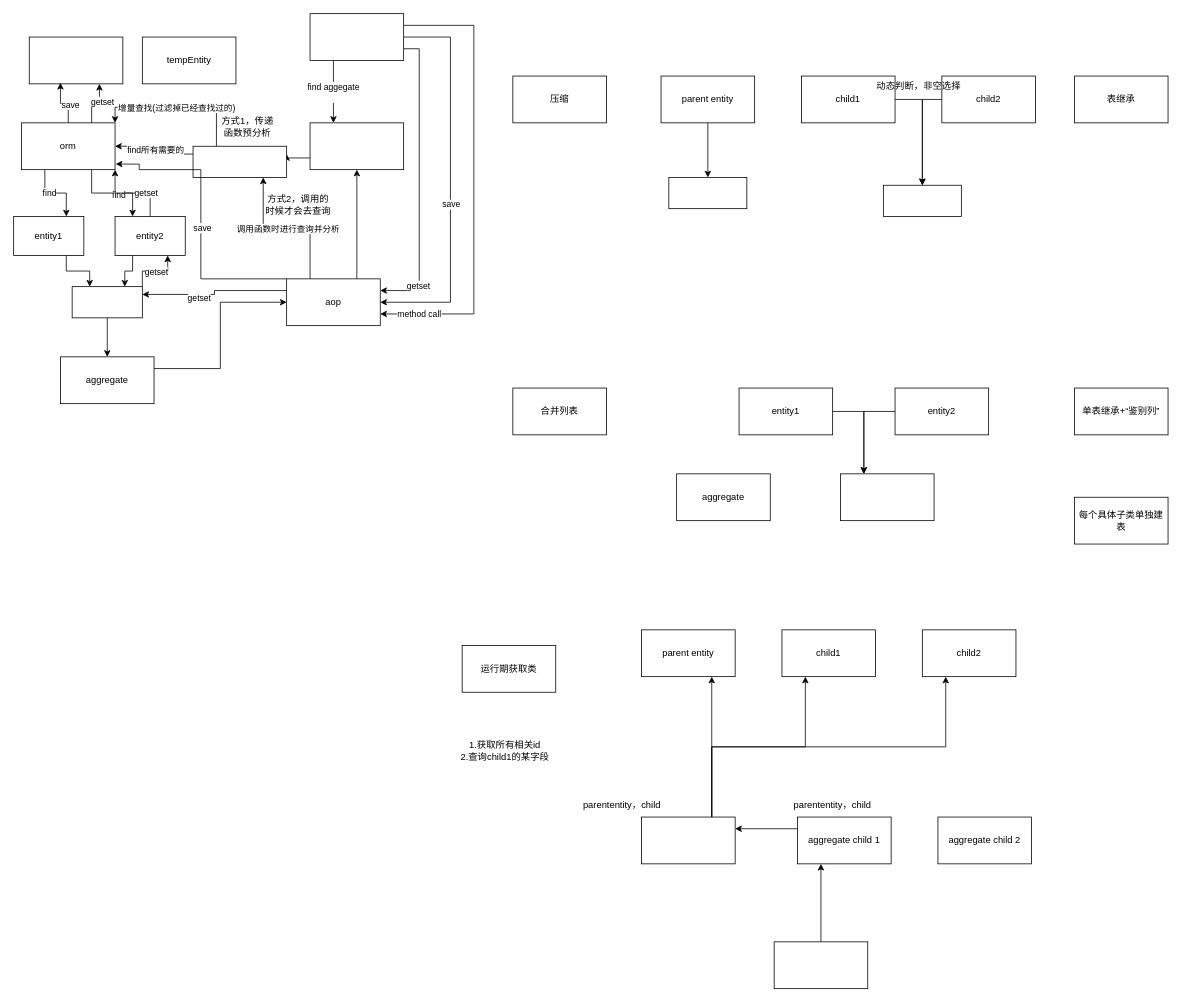
This 1182x1002 diagram has some shape labels left out. The centre of each missing label's shape, as x and y in pixels:
aggregate parent: [688,840]
analysisNeededField: [239,161]
changedEntity: [75,60]
cmd: [356,36]
get: [820,965]
list: [887,497]
map规则: [106,302]
ormObject1: [707,193]
ormObject2: [922,200]
repository: [356,146]
